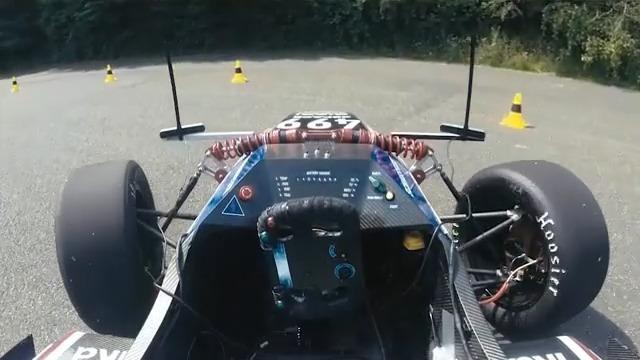yellow_cone: (498, 88, 532, 131), (222, 59, 252, 85), (100, 61, 118, 83), (7, 73, 25, 93)
